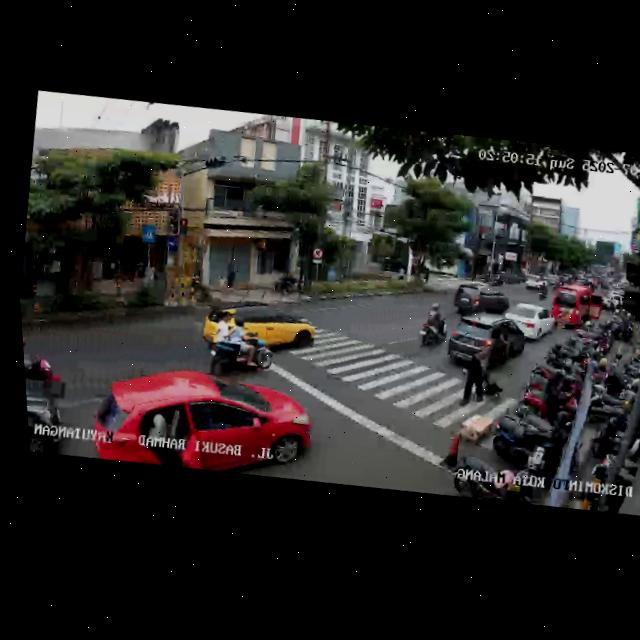car: (88, 350, 323, 491), (201, 289, 321, 362), (442, 310, 528, 377), (24, 351, 77, 456), (548, 282, 607, 336), (451, 276, 513, 326), (502, 299, 559, 346), (522, 272, 551, 296)
motorcycle: (203, 313, 280, 384), (23, 340, 72, 401), (414, 300, 452, 353), (536, 279, 552, 300)
person: (456, 351, 495, 412)
